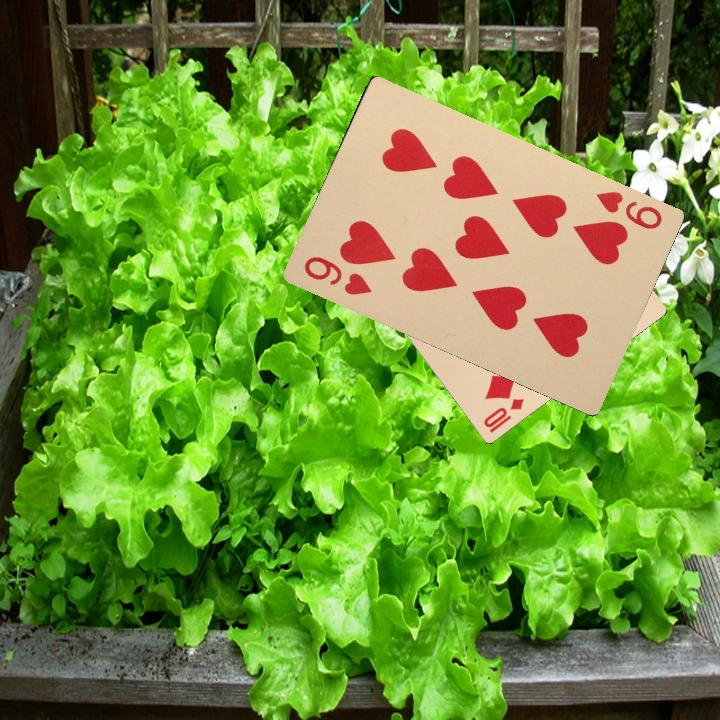10d: (479, 394, 527, 435)
9h: (300, 252, 375, 298), (592, 186, 665, 232)
